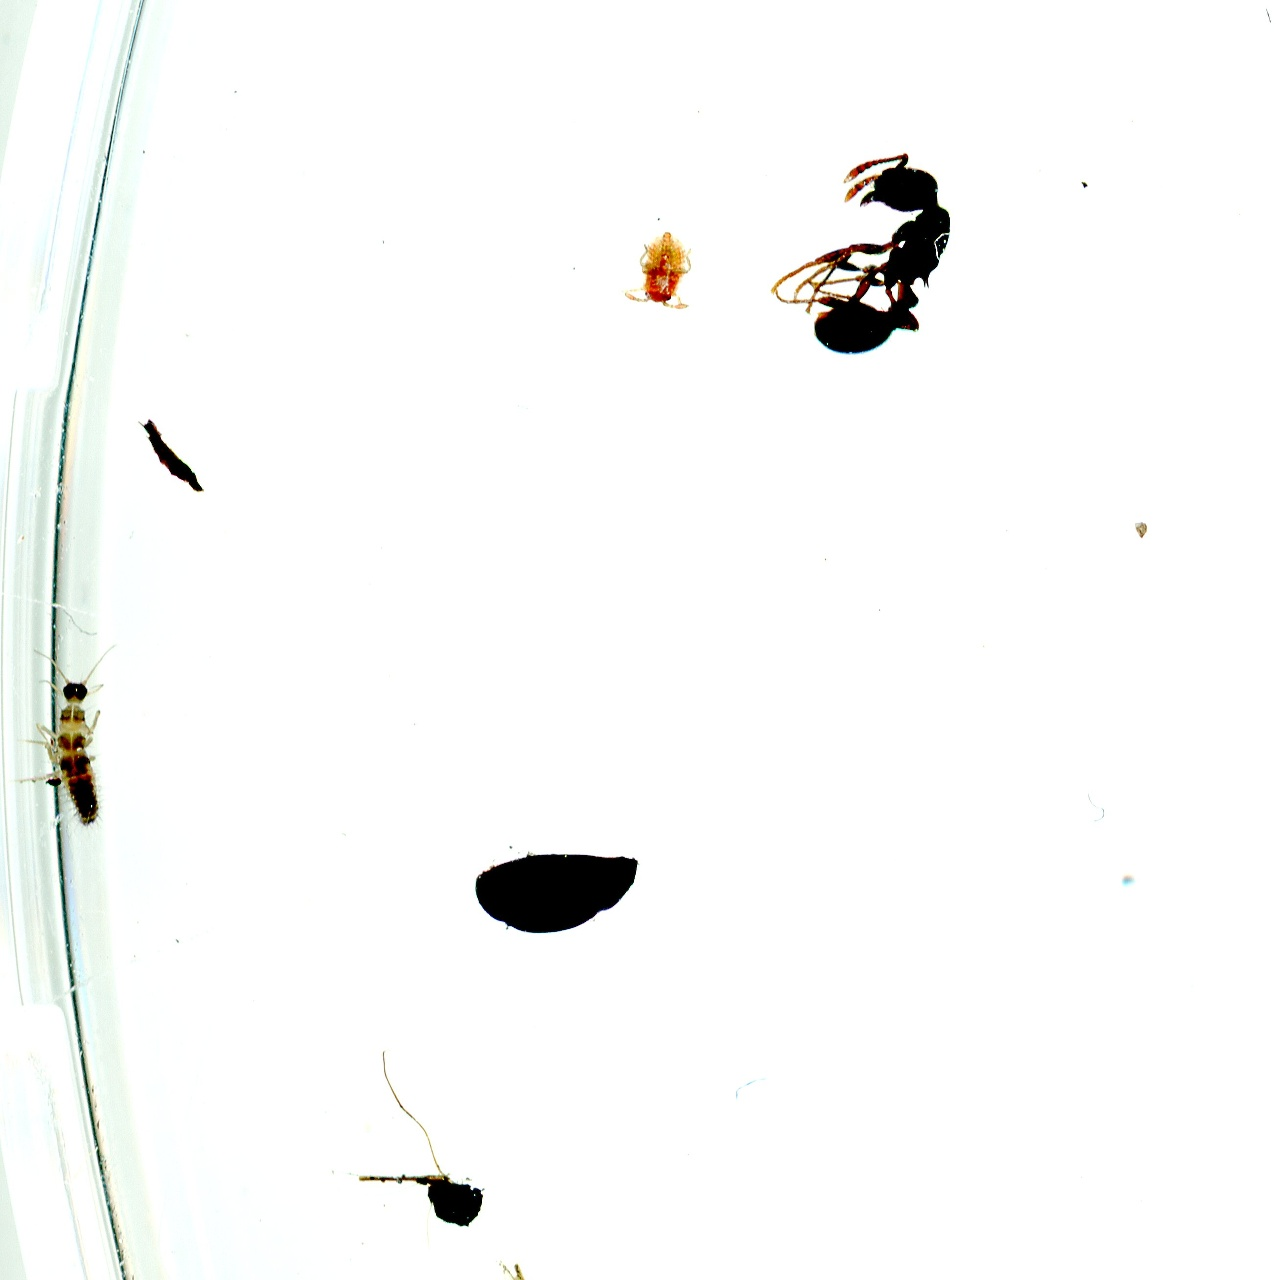arthropod: (762, 137, 959, 369), (12, 640, 122, 843), (621, 231, 695, 312)
